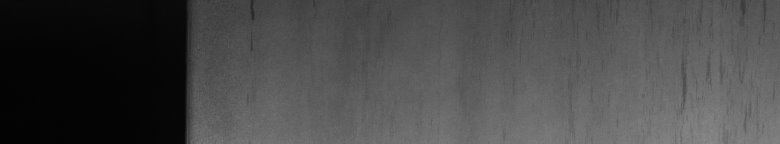ka: (680, 4, 766, 130)
